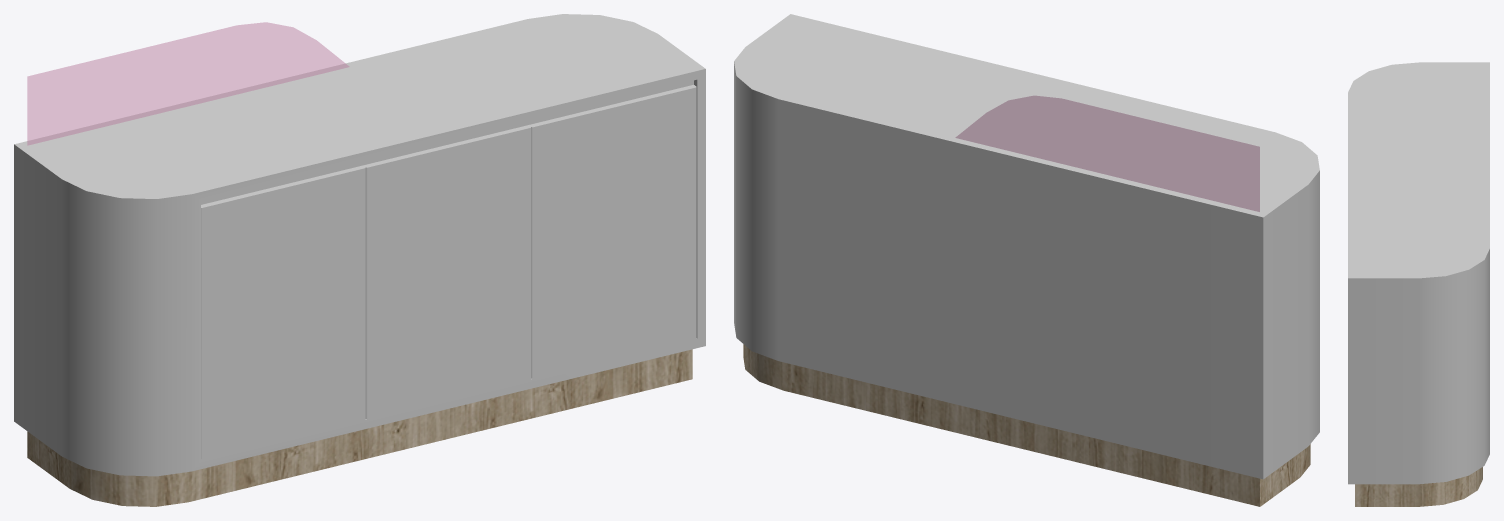
The model's file is Table03.fbx.
3 views of the same model, side by side, from view 1: azimuth 30°, elevation 25°; view 2: azimuth 150°, elevation 25°; view 3: azimuth 270°, elevation 25° (orthographic). The views are drawn at different scales.
Visible parts, largest first — view 1: Table03; view 2: Table03; view 3: Table03.
Boxes of the visible parts, x1=… form: Table03: x1=14, y1=14, x2=705, y2=506; Table03: x1=734, y1=14, x2=1319, y2=506; Table03: x1=1348, y1=62, x2=1489, y2=506.
Size of the model in its own units: 180 by 110 by 49.99.
